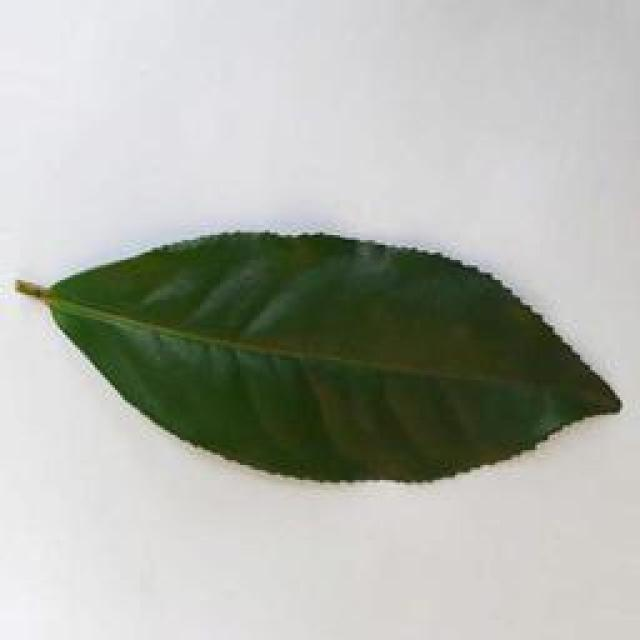Healthy: (14, 220, 624, 491)
